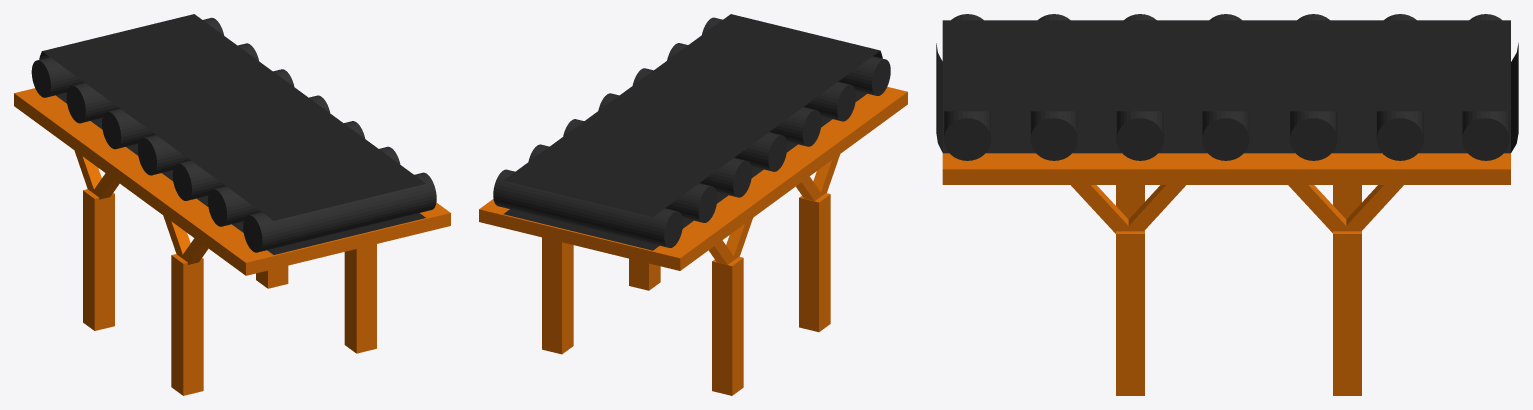
Rendered from table.glb.
The picture shows the model from 3 angles, left to right: view 1: azimuth 30°, elevation 25°; view 2: azimuth 150°, elevation 25°; view 3: azimuth 270°, elevation 25°; orthographic projection. The views are drawn at different scales.
Parts seen in each view (by area): view 1: Cube; view 2: Cube; view 3: Cube.
Part boxes in pixels (x1,y1,x2,y2): Cube: [14, 14, 450, 395]; Cube: [479, 14, 907, 395]; Cube: [936, 14, 1518, 395].
Bounding box in the file's own units: 2.35 × 2.43 × 4.72.
